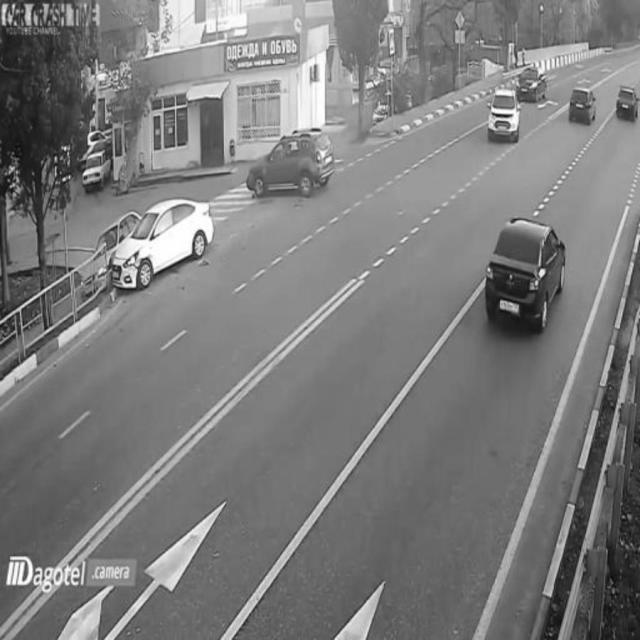accident: (91, 193, 219, 296)
vehicle: (490, 217, 568, 330), (247, 128, 335, 201), (486, 87, 520, 139), (514, 61, 551, 101), (83, 142, 113, 190), (566, 82, 596, 124), (615, 76, 639, 116)
